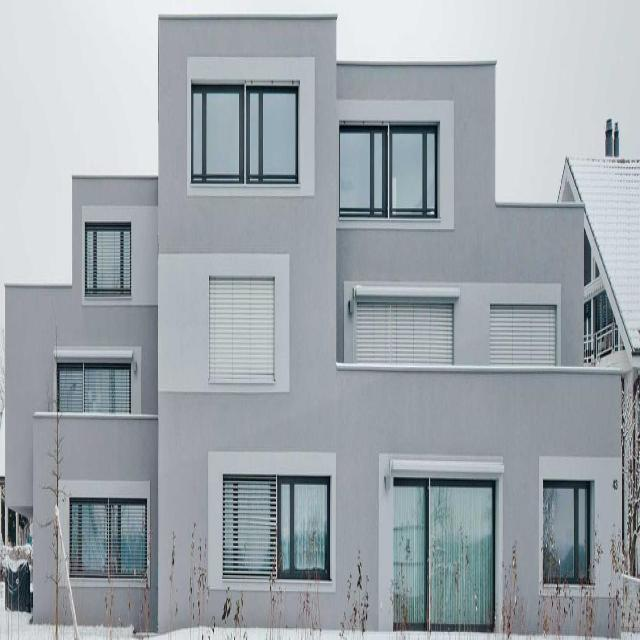door: (393, 475, 494, 625)
window: (193, 82, 299, 185), (226, 481, 328, 577), (340, 123, 437, 214), (208, 273, 277, 379), (357, 296, 454, 365), (70, 498, 148, 576), (543, 479, 589, 579), (491, 302, 557, 361), (58, 362, 132, 412), (87, 224, 131, 291)
